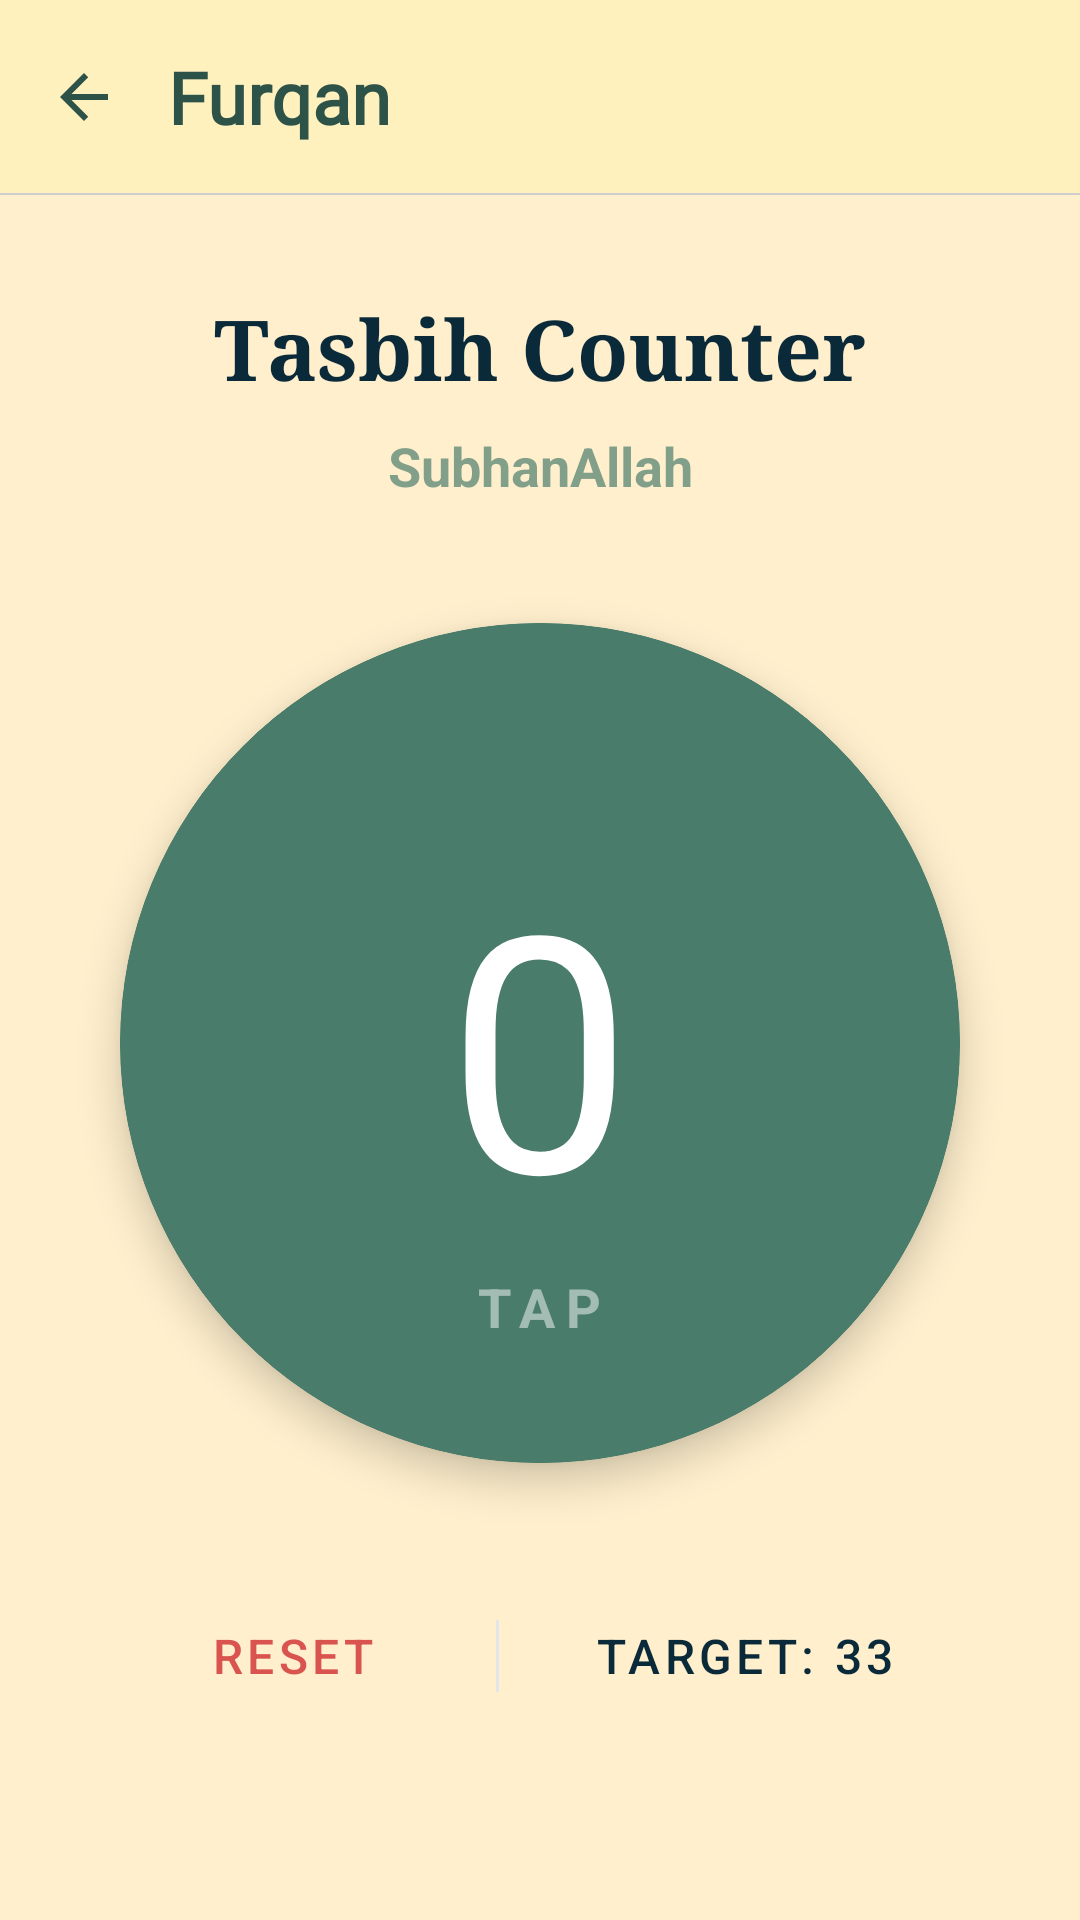

Locate icon controls on the screen. Image size 1080 x 1920, boxes as BBox(x1, y1, x2, y2).
back: BBox(60, 73, 108, 121)
